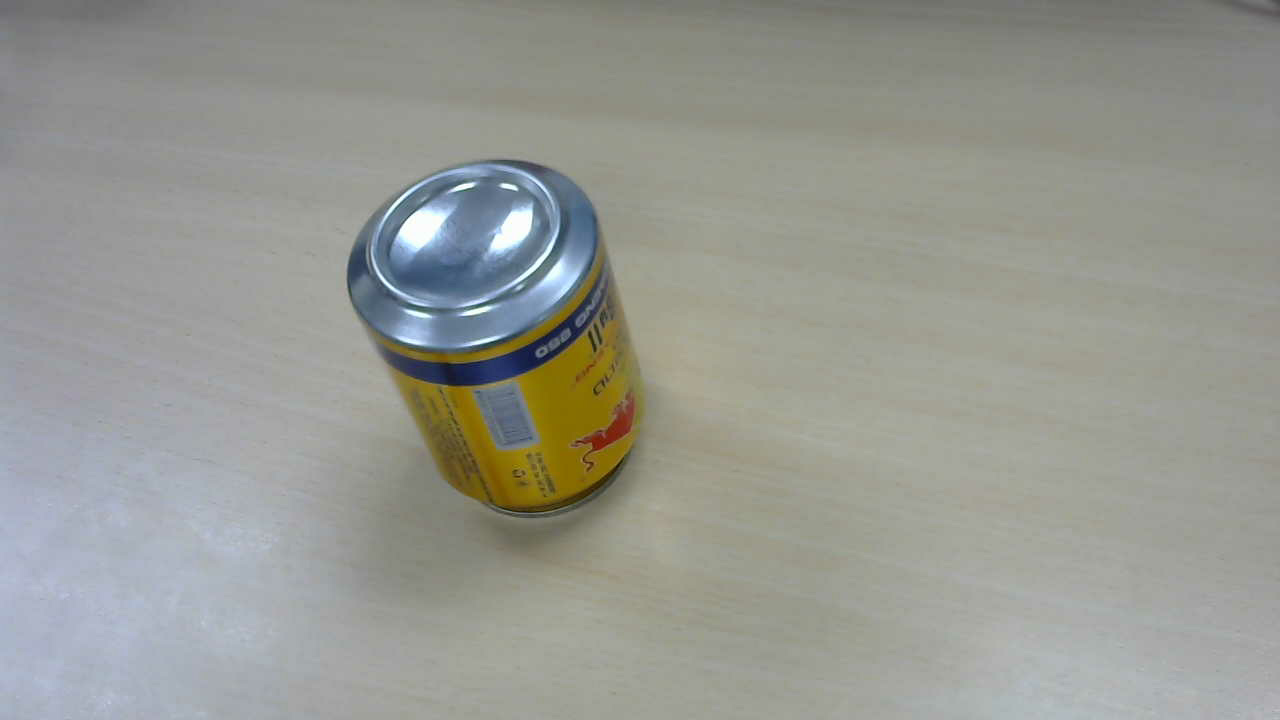Red_Bull: (343, 160, 656, 522)
